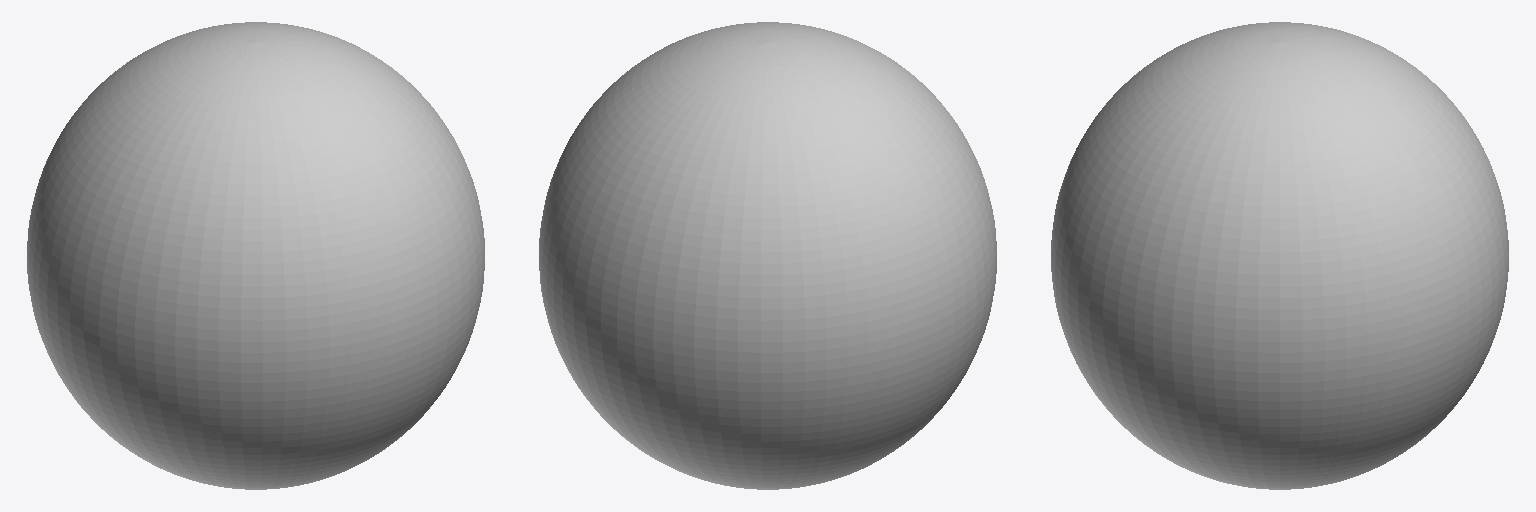
The model's file is globe.obj.
3 renders of one model, left to right at view 1: azimuth 30°, elevation 25°; view 2: azimuth 150°, elevation 25°; view 3: azimuth 270°, elevation 25°, orthographic.
Parts seen in each view (by area): view 1: inside.001; view 2: inside.001; view 3: inside.001.
Boxes of the visible parts, x1,y1,x2,y2 form: inside.001: [27, 22, 484, 489]; inside.001: [539, 22, 996, 489]; inside.001: [1051, 22, 1508, 489].
Size of the model in its own units: 28.08 by 28.85 by 28.08.